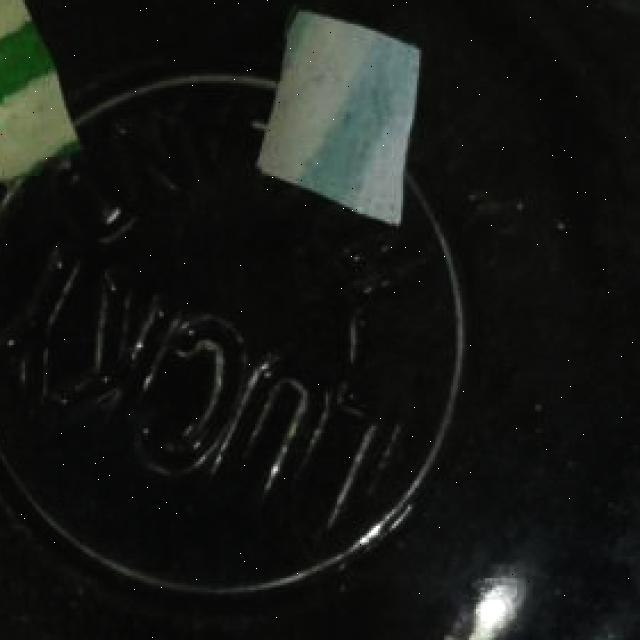Microplastic: (262, 7, 428, 236), (0, 0, 84, 221)
